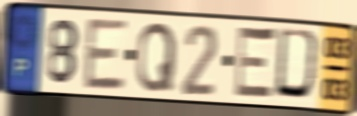2: (180, 21, 222, 99)
8: (46, 17, 80, 87)
D: (272, 25, 324, 105)
E: (232, 22, 279, 105), (82, 16, 130, 94)
Q: (134, 20, 178, 95)
